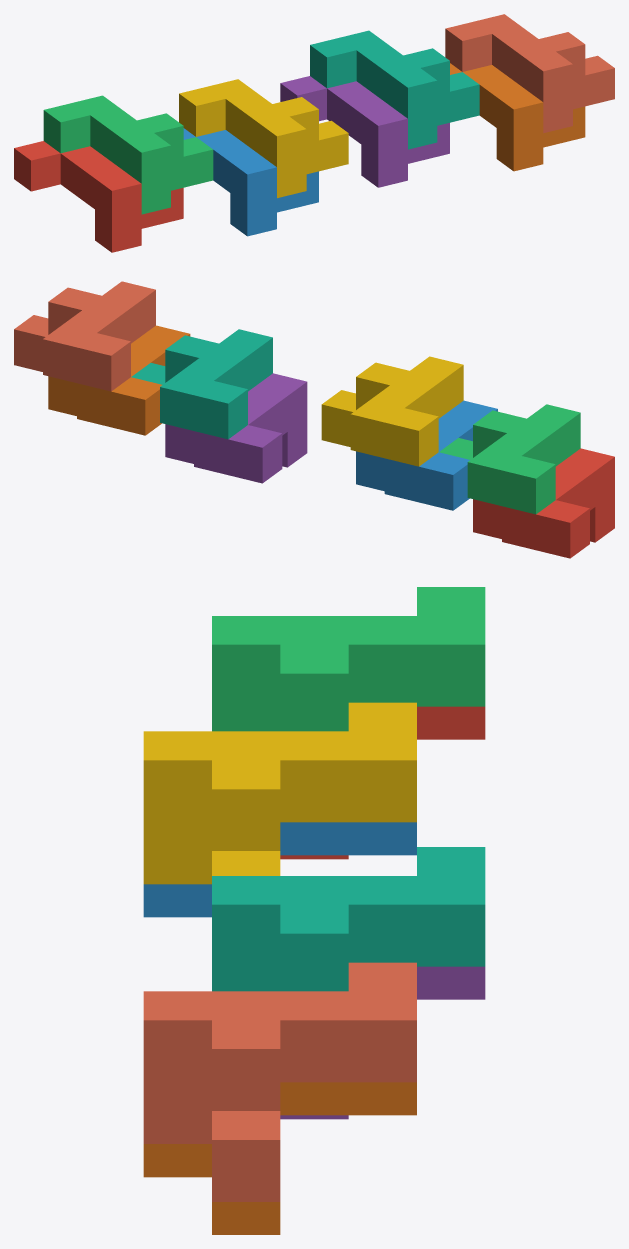
The model's file is tiling.obj.
3 views of the same model, one above another, from view 1: azimuth 30°, elevation 25°; view 2: azimuth 150°, elevation 25°; view 3: azimuth 270°, elevation 25° (orthographic). The views are drawn at different scales.
Parts seen in each view (by area): view 1: copy_1_domain_3, copy_1_domain_8, copy_1_domain_7, copy_1_domain_4, copy_1_domain_1, copy_1_domain_5, copy_1_domain_6, copy_1_domain_2; view 2: copy_1_domain_4, copy_1_domain_8, copy_1_domain_3, copy_1_domain_7, copy_1_domain_5, copy_1_domain_1, copy_1_domain_2, copy_1_domain_6; view 3: copy_1_domain_8, copy_1_domain_4, copy_1_domain_3, copy_1_domain_7, copy_1_domain_6, copy_1_domain_2, copy_1_domain_1, copy_1_domain_5.
Part boxes in pixels (x1,y1,x2,y2): copy_1_domain_3: (43,95,213,214); copy_1_domain_8: (445,14,614,133); copy_1_domain_7: (310,30,479,149); copy_1_domain_4: (179,79,348,198); copy_1_domain_1: (14,141,183,252); copy_1_domain_5: (280,76,449,187); copy_1_domain_6: (450,63,585,171); copy_1_domain_2: (183,128,318,236); copy_1_domain_4: (321,356,463,466); copy_1_domain_8: (14,281,155,391); copy_1_domain_3: (439,404,580,514); copy_1_domain_7: (131,329,272,439); copy_1_domain_5: (165,373,307,483); copy_1_domain_1: (473,448,614,558); copy_1_domain_2: (356,400,497,510); copy_1_domain_6: (48,325,190,435); copy_1_domain_8: (143,962,416,1201); copy_1_domain_4: (143,702,416,884); copy_1_domain_3: (212,587,485,731); copy_1_domain_7: (212,847,485,991); copy_1_domain_6: (143,1082,416,1234); copy_1_domain_2: (143,822,416,917); copy_1_domain_1: (280,706,485,859); copy_1_domain_5: (280,966,485,1119).
Size of the model in its own units: 18 by 3 by 5.
